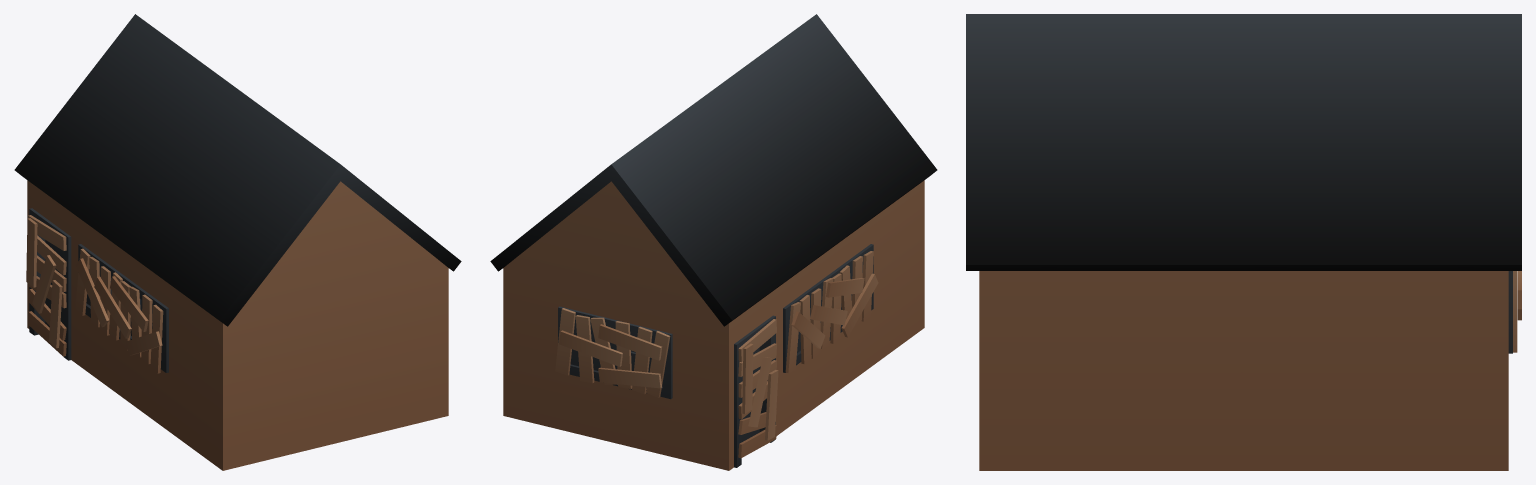
Rendered from house.fbx.
3 renders of one model, left to right at view 1: azimuth 30°, elevation 25°; view 2: azimuth 150°, elevation 25°; view 3: azimuth 270°, elevation 25°, orthographic. The views are drawn at different scales.
Parts seen in each view (by area): view 1: house; view 2: house; view 3: house.
Boxes of the visible parts, bbox=[...] form: house: bbox=[14, 14, 461, 470]; house: bbox=[490, 14, 937, 470]; house: bbox=[966, 14, 1521, 470].
Size of the model in its own units: 429 by 478 by 630.
